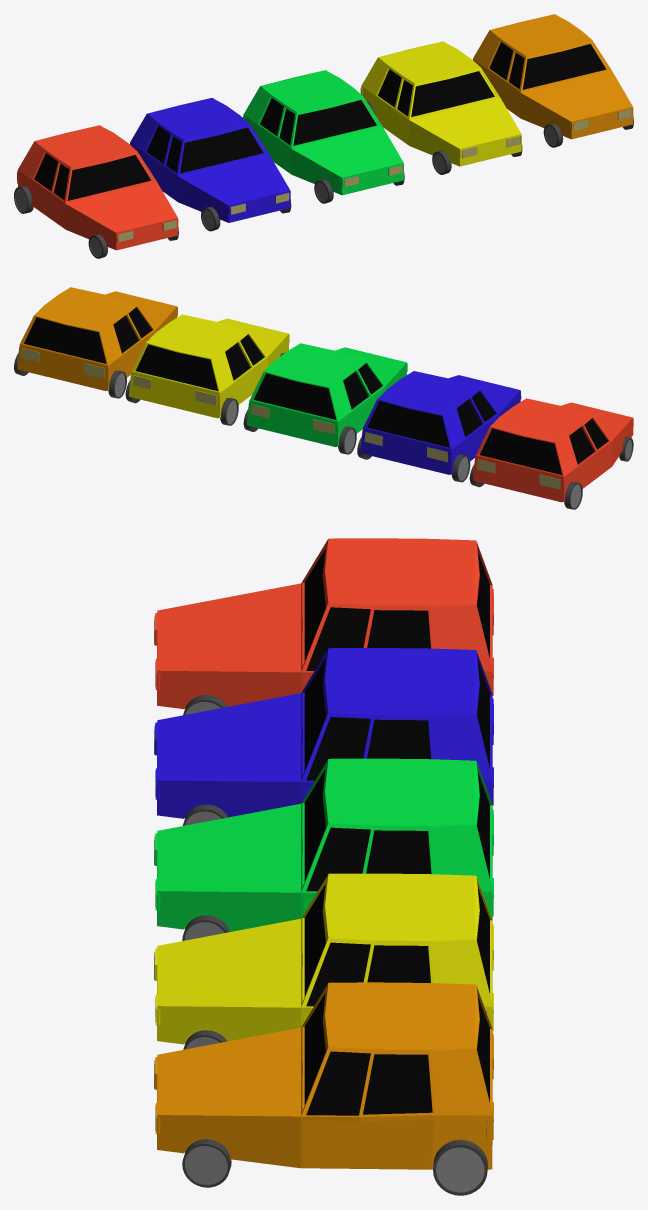
File: Carros .fbx
3 views of the same model, one above another, from view 1: azimuth 30°, elevation 25°; view 2: azimuth 150°, elevation 25°; view 3: azimuth 270°, elevation 25° (orthographic). The views are drawn at different scales.
Parts seen in each view (by area): view 1: Carro v1, Carro v4, Carro v3, Carro v2, Carro v5; view 2: Carro v1, Carro v4, Carro v3, Carro v2, Carro v5; view 3: Carro v5, Carro v3, Carro v2, Carro v1, Carro v4.
Part boxes in pixels (bbox=[...]): Carro v1: bbox=[14, 125, 178, 258]; Carro v4: bbox=[360, 41, 522, 174]; Carro v3: bbox=[243, 70, 404, 203]; Carro v2: bbox=[130, 98, 291, 231]; Carro v5: bbox=[473, 14, 633, 147]; Carro v1: bbox=[469, 398, 633, 509]; Carro v4: bbox=[125, 314, 289, 425]; Carro v3: bbox=[243, 343, 407, 454]; Carro v2: bbox=[357, 371, 521, 482]; Carro v5: bbox=[14, 287, 177, 398]; Carro v5: bbox=[154, 982, 493, 1195]; Carro v3: bbox=[154, 758, 493, 940]; Carro v2: bbox=[154, 648, 493, 825]; Carro v1: bbox=[154, 538, 493, 715]; Carro v4: bbox=[154, 873, 493, 1049].
Bounding box in the file's own units: 4122 × 475 × 1092.
